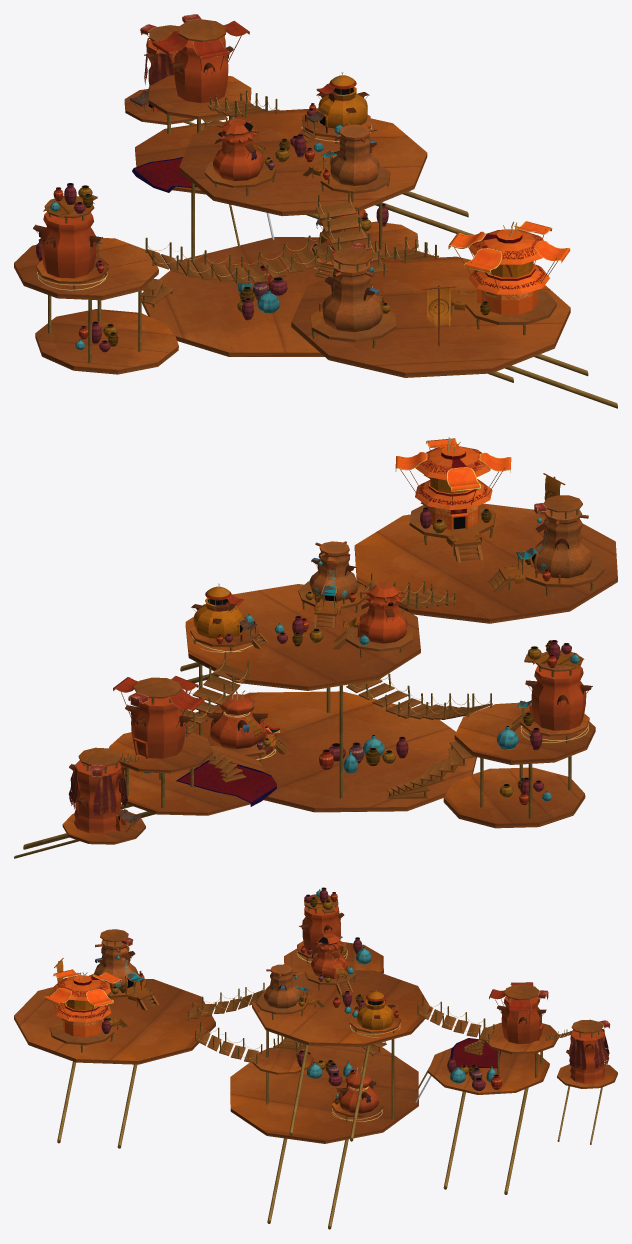
Rendered from maison falaise.fbx.
3 renders of one model, top to bottom at view 1: azimuth 30°, elevation 25°; view 2: azimuth 150°, elevation 25°; view 3: azimuth 270°, elevation 25°, orthographic. The views are drawn at different scales.
Visible parts, largest first — view 1: polySurface1705; view 2: polySurface1705; view 3: polySurface1705.
Boxes of the visible parts, x1=… form: polySurface1705: x1=14, y1=14, x2=617, y2=408; polySurface1705: x1=14, y1=437, x2=617, y2=858; polySurface1705: x1=14, y1=887, x2=617, y2=1229.
Size of the model in its own units: 106 by 64.1 by 169.
